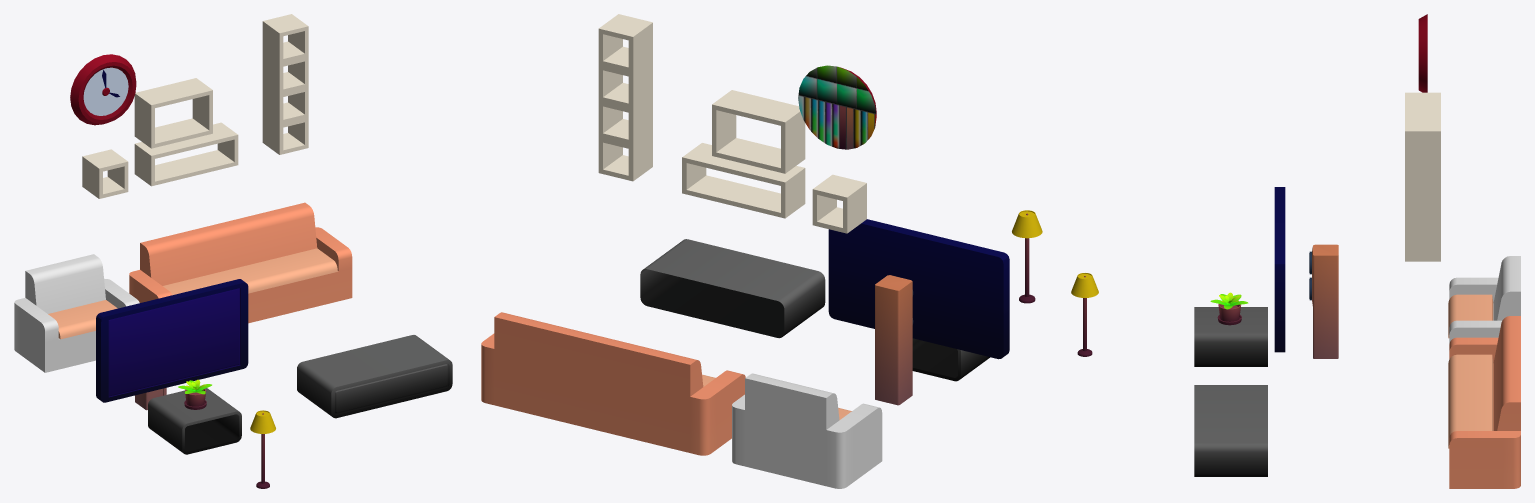
3 views of the same model, side by side, from view 1: azimuth 30°, elevation 25°; view 2: azimuth 150°, elevation 25°; view 3: azimuth 270°, elevation 25° (orthographic). The views are drawn at different scales.
Parts seen in each view (by area): view 1: Cube.032, TV, Table_02, Cube.028, Dividers, Table_01, Dividers3, Dividers2, Clock, Dviders4, Cube.030, Lamp (+1 smaller); view 2: Cube.032, TV, Cube.028, Table_02, Dividers, Dividers3, Dividers2, Clock, Cube.038, Dviders4, Table_01, Lamp; view 3: Cube.032, Table_02, Dividers, Table_01, Cube.028, Cube.038, TV, Cube.030, Dividers3, Lamp, Clock, Flower.
Part boxes in pixels (x1,y1,x2,y2): Cube.032: (129, 202, 352, 323); TV: (96, 279, 248, 402); Table_02: (297, 335, 452, 418); Cube.028: (14, 254, 139, 372); Dividers: (262, 14, 308, 154); Table_01: (148, 388, 241, 454); Dividers3: (134, 78, 212, 148); Dividers2: (134, 122, 238, 186); Clock: (70, 54, 136, 125); Dviders4: (82, 149, 128, 198); Cube.030: (48, 300, 117, 339); Lamp: (250, 410, 275, 488); Cube.032: (481, 312, 745, 455); TV: (828, 219, 1009, 359); Cube.028: (732, 373, 882, 488); Table_02: (640, 239, 825, 338); Dividers: (598, 14, 652, 181); Dividers3: (712, 90, 805, 173); Dividers2: (682, 143, 805, 218); Clock: (798, 65, 876, 149); Cube.038: (875, 275, 913, 405); Dviders4: (812, 174, 866, 233); Table_01: (912, 338, 989, 381); Lamp: (1012, 210, 1042, 303); Cube.032: (1448, 316, 1520, 488); Table_02: (1194, 385, 1267, 476); Dividers: (1405, 116, 1440, 261); Table_01: (1194, 307, 1267, 366); Cube.028: (1449, 256, 1520, 343); Cube.038: (1309, 244, 1338, 358); TV: (1274, 187, 1285, 352); Cube.030: (1448, 294, 1493, 338); Dividers3: (1405, 92, 1440, 115); Lamp: (1071, 273, 1098, 356); Clock: (1418, 14, 1427, 92); Flower: (1210, 292, 1248, 325).
Size of the model in its own units: 11.52 by 10.38 by 12.59.
